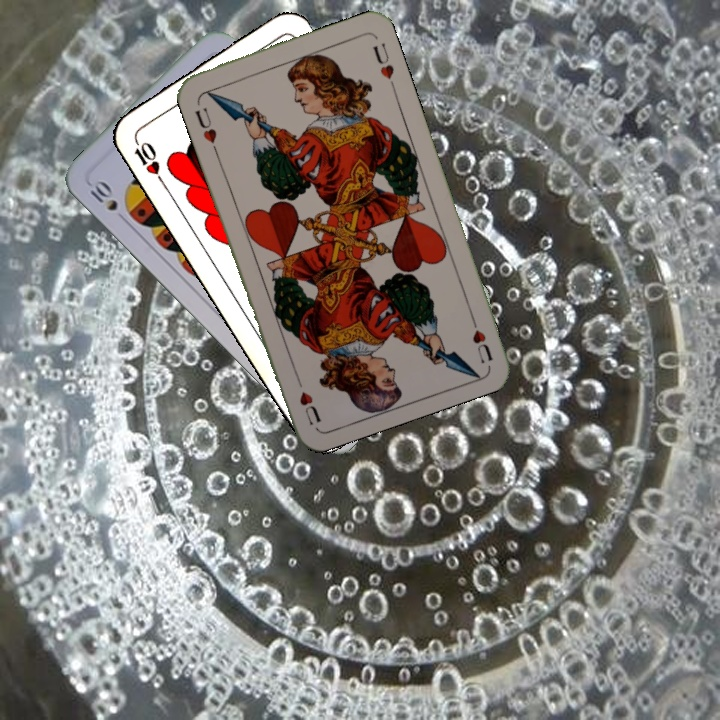H10: (129, 133, 167, 186)
HU: (466, 309, 495, 366), (191, 103, 220, 154)
S10: (83, 175, 130, 226)
